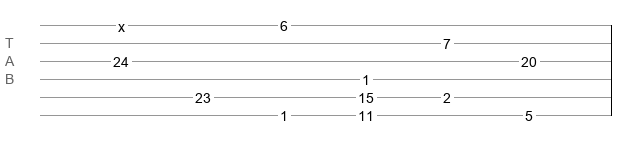1: (280, 108, 288, 118), (362, 72, 370, 82)
11: (358, 108, 374, 118)
15: (358, 90, 374, 100)
2: (443, 90, 451, 100)
20: (521, 54, 537, 64)
23: (195, 90, 211, 100)
24: (113, 54, 129, 64)
5: (525, 108, 533, 118)
6: (280, 18, 288, 28)
7: (443, 36, 451, 46)
x: (118, 19, 125, 27)
